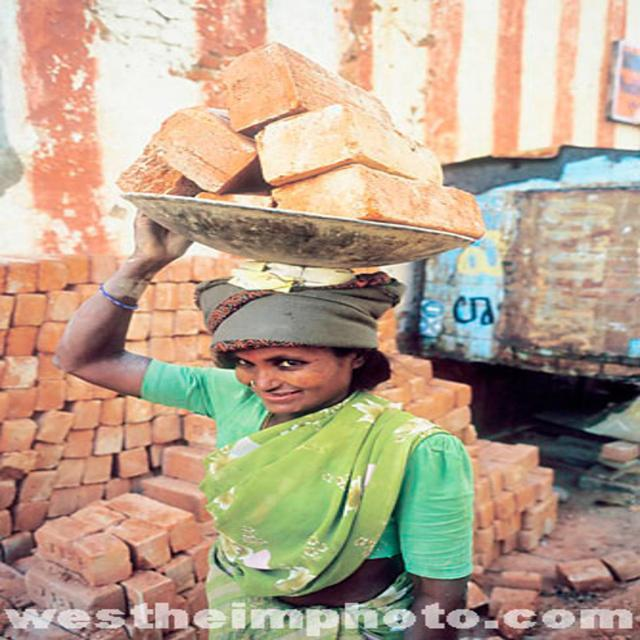Face: (241, 342, 357, 423)
